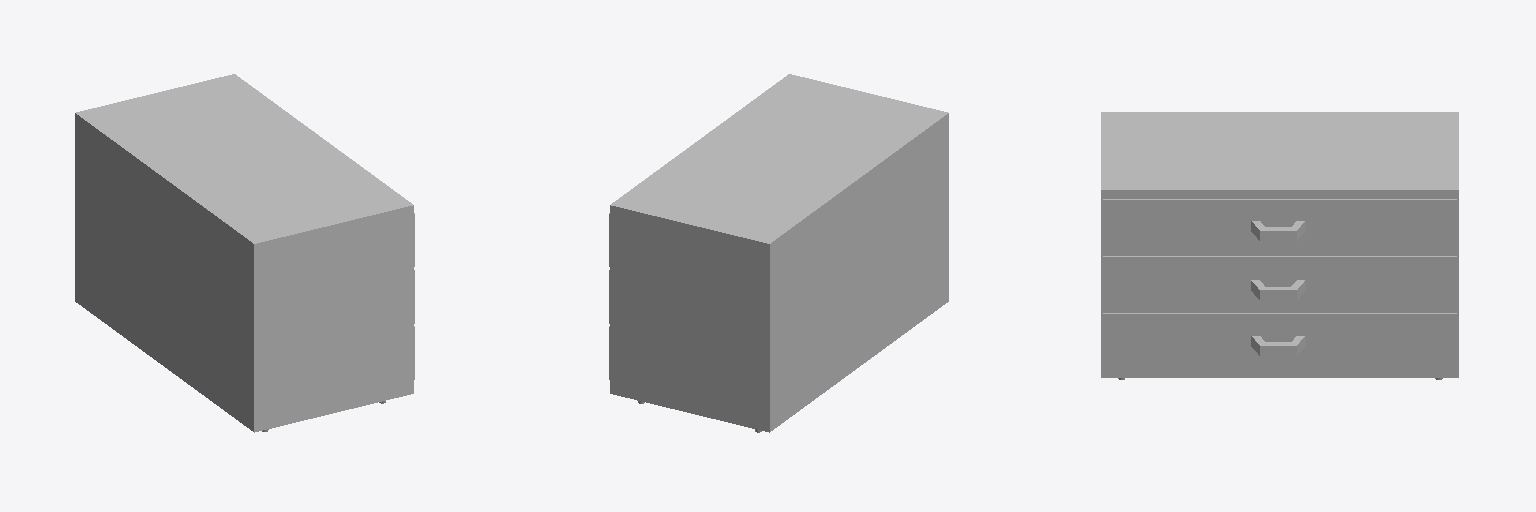
File: TV cabinet.obj
3 renders of one model, left to right at view 1: azimuth 30°, elevation 25°; view 2: azimuth 150°, elevation 25°; view 3: azimuth 270°, elevation 25°, orthographic.
Visible parts, largest first — view 1: Cube; view 2: Cube; view 3: Cube, Cube.003, Cube.001, Cube.002.
Boxes of the visible parts, x1=… form: Cube: x1=75, y1=74, x2=413, y2=432; Cube: x1=610, y1=74, x2=948, y2=432; Cube: x1=1101, y1=112, x2=1458, y2=377; Cube.003: x1=1103, y1=199, x2=1456, y2=253; Cube.001: x1=1103, y1=313, x2=1456, y2=366; Cube.002: x1=1103, y1=256, x2=1456, y2=309.
Bounding box in the file's own units: 1.4 × 1.46 × 2.38.